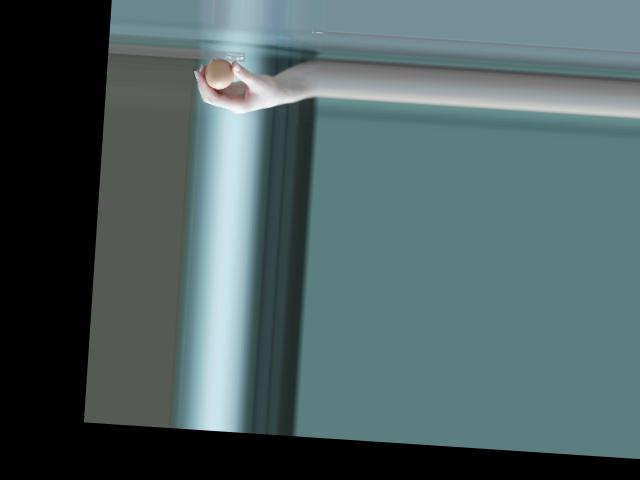egg: (203, 57, 235, 90)
